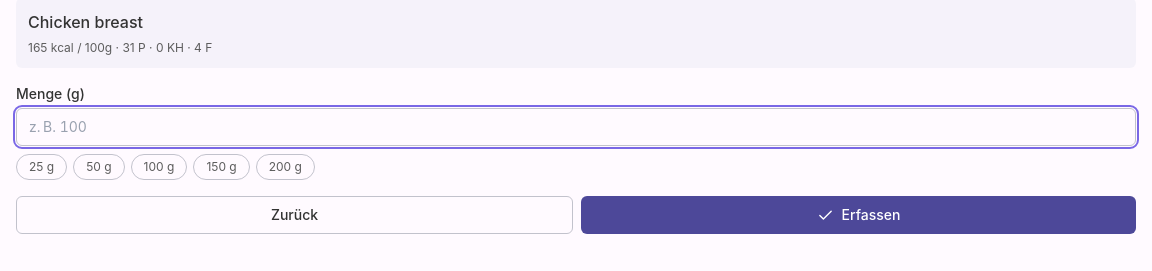
it: FullEntryConfirm › requires amount > 0
The width and height of the screenshot is (1152, 271).
Click the button "Erfassen".
click(858, 215)  # box [581,196,1136,234]
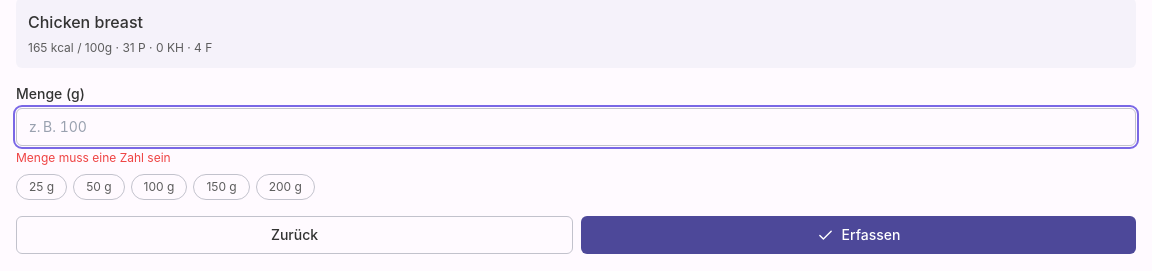
Expected: the text "Menge muss eine Zahl sein" is shown, [16,150,171,165]
